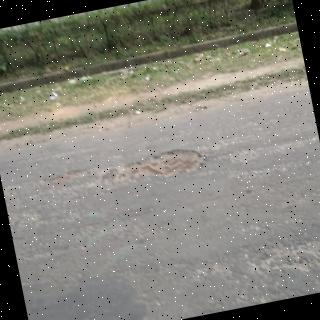pothole: (103, 148, 205, 185)
